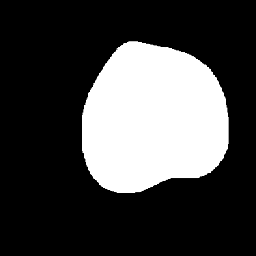mass: (85, 47, 223, 189)
